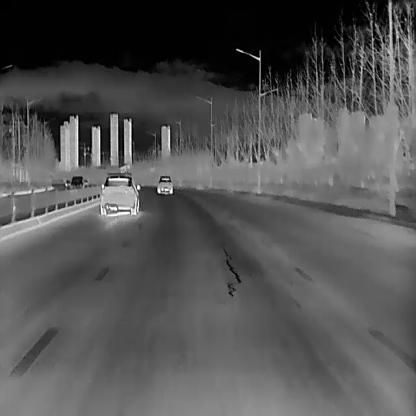car: (99, 172, 140, 216), (156, 175, 173, 193), (69, 174, 82, 189)
